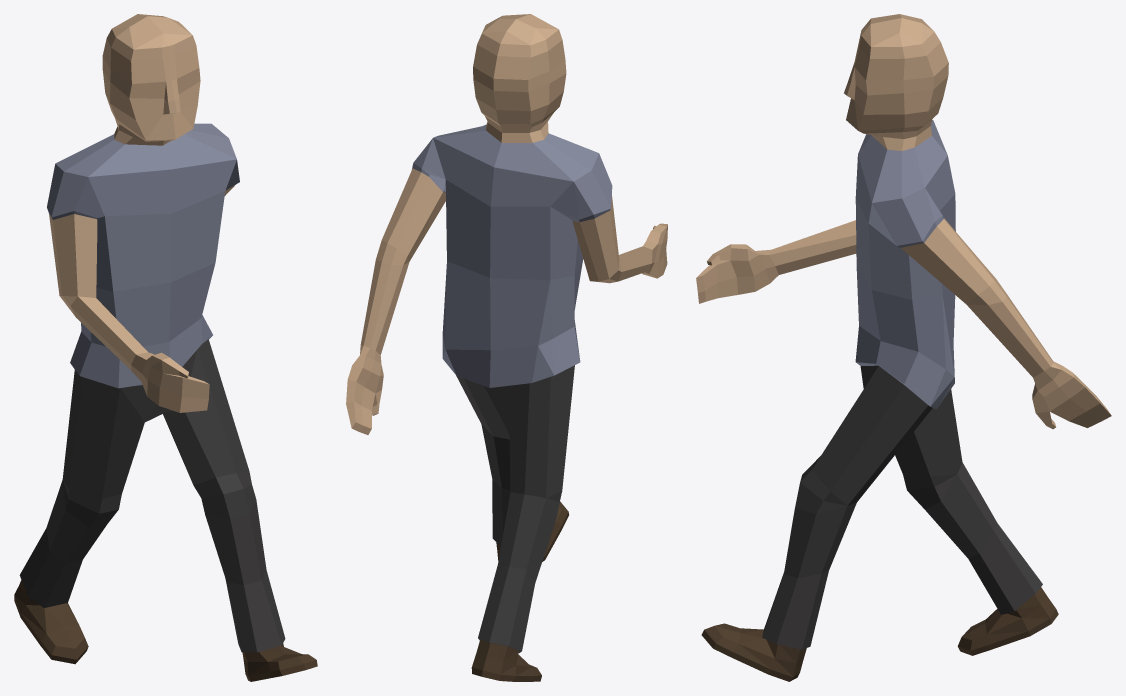
File: Male_Running.glb
3 views of the same model, side by side, from view 1: azimuth 30°, elevation 25°; view 2: azimuth 150°, elevation 25°; view 3: azimuth 270°, elevation 25° (orthographic). The views are drawn at different scales.
Visible parts, largest first — view 1: Male_Running; view 2: Male_Running; view 3: Male_Running.
Boxes of the visible parts, x1=… form: Male_Running: x1=14, y1=14, x2=317, y2=681; Male_Running: x1=346, y1=14, x2=667, y2=681; Male_Running: x1=696, y1=14, x2=1111, y2=681.
Bounding box in the file's own units: 1.21 × 3.85 × 2.21.
